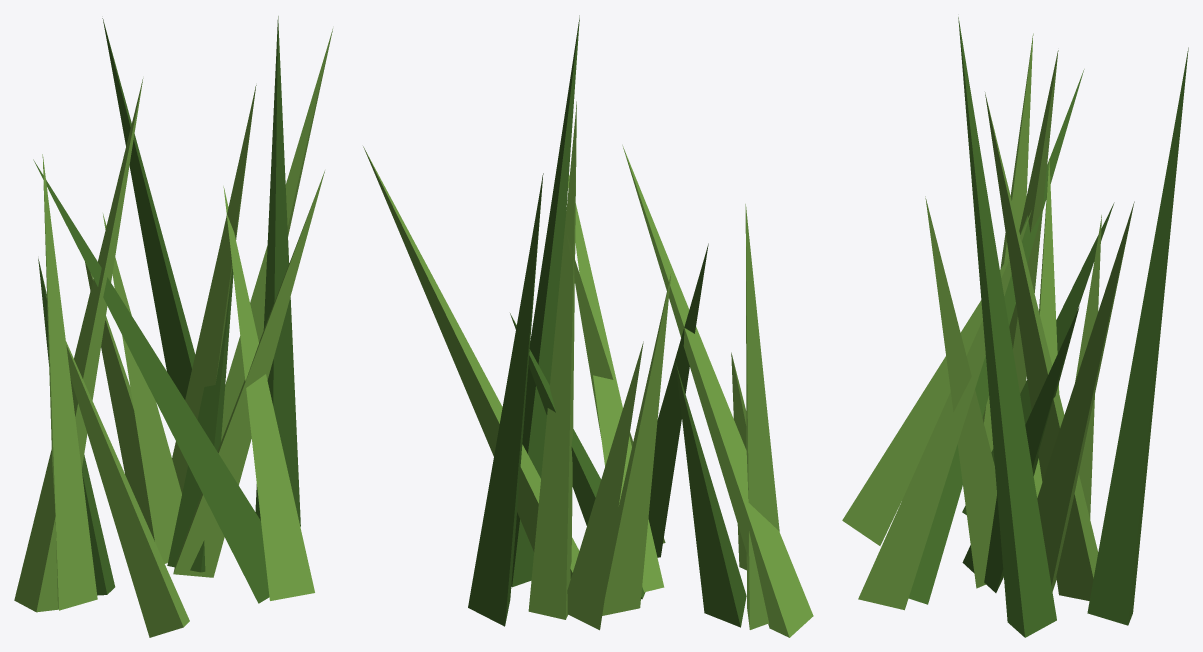
File: SM_Grass_Tuft.glb
3 renders of one model, left to right at view 1: azimuth 30°, elevation 25°; view 2: azimuth 150°, elevation 25°; view 3: azimuth 270°, elevation 25°, orthographic. The views are drawn at different scales.
Visible parts, largest first — view 1: SM_Grass_Tuft; view 2: SM_Grass_Tuft; view 3: SM_Grass_Tuft.
Boxes of the visible parts, x1,y1,x2,y2 form: SM_Grass_Tuft: (14, 16, 332, 637); SM_Grass_Tuft: (363, 15, 813, 637); SM_Grass_Tuft: (842, 17, 1188, 637).
Bounding box in the file's own units: 0.1935 × 0.2757 × 0.1426.
1 material, 1 textured.
